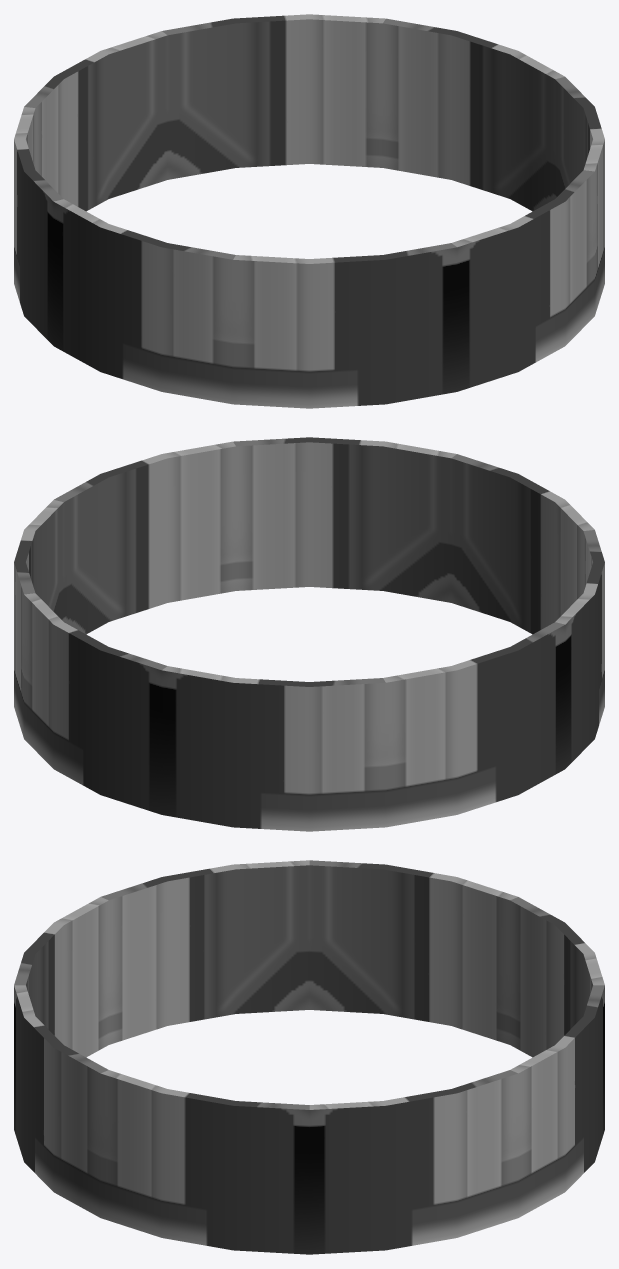
The model's file is libra_engine_s1_1_fairing.obj.
3 renders of one model, top to bottom at view 1: azimuth 30°, elevation 25°; view 2: azimuth 150°, elevation 25°; view 3: azimuth 270°, elevation 25°, orthographic.
Visible parts, largest first — view 1: libra_engine_s1_1_fairing; view 2: libra_engine_s1_1_fairing; view 3: libra_engine_s1_1_fairing.
Part boxes in pixels (<box>): libra_engine_s1_1_fairing: <box>14,14,604,408</box>; libra_engine_s1_1_fairing: <box>14,437,604,831</box>; libra_engine_s1_1_fairing: <box>14,860,604,1254</box>.
Size of the model in its own units: 1.25 by 0.3375 by 1.25.
